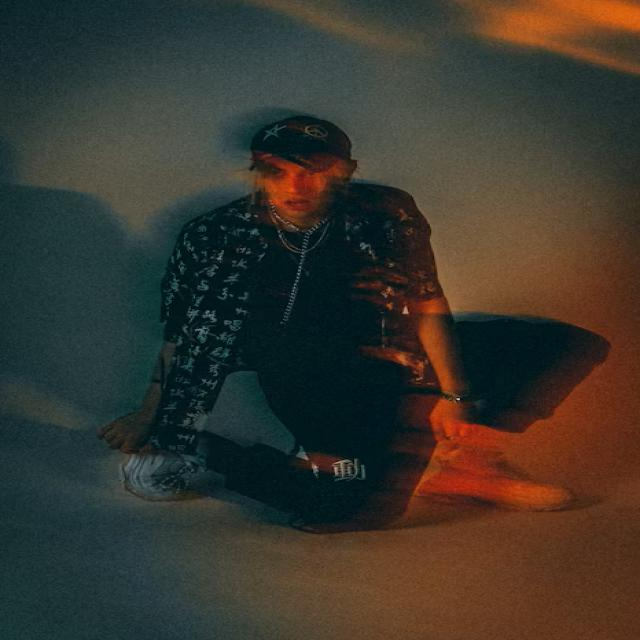Edited images: (79, 95, 596, 544)
